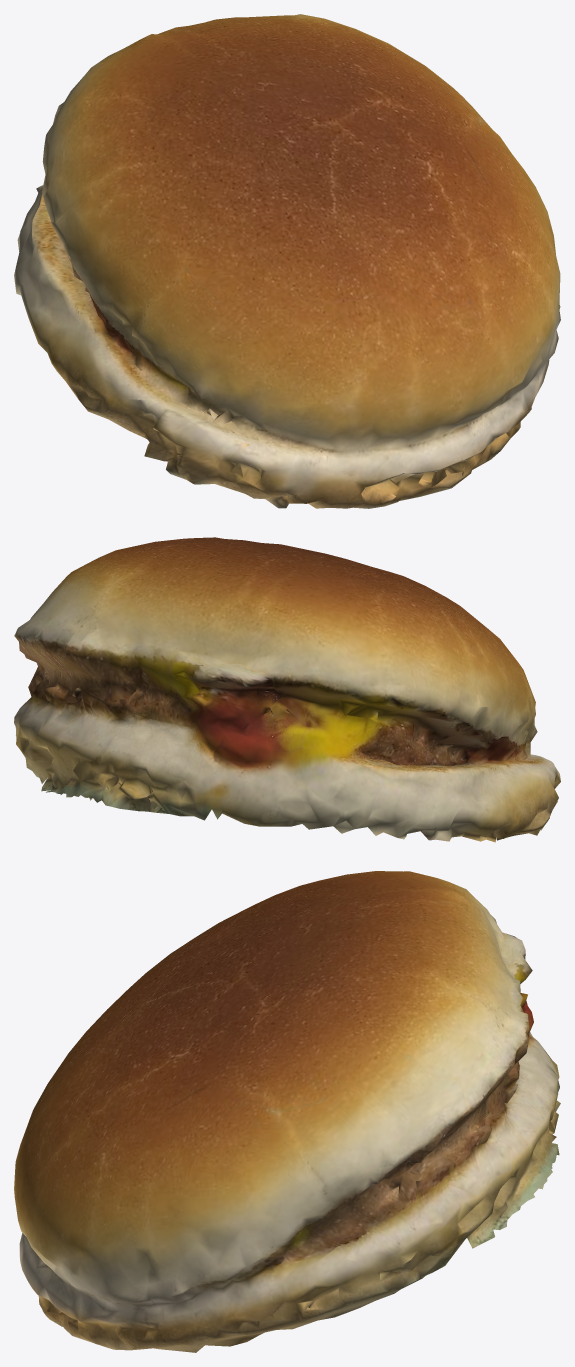
The picture shows the model from 3 angles, top to bottom: view 1: azimuth 30°, elevation 25°; view 2: azimuth 150°, elevation 25°; view 3: azimuth 270°, elevation 25°; orthographic projection. The views are drawn at different scales.
Size of the model in its own units: 0.1311 by 0.0951 by 0.1234.
1 material, 1 textured.
